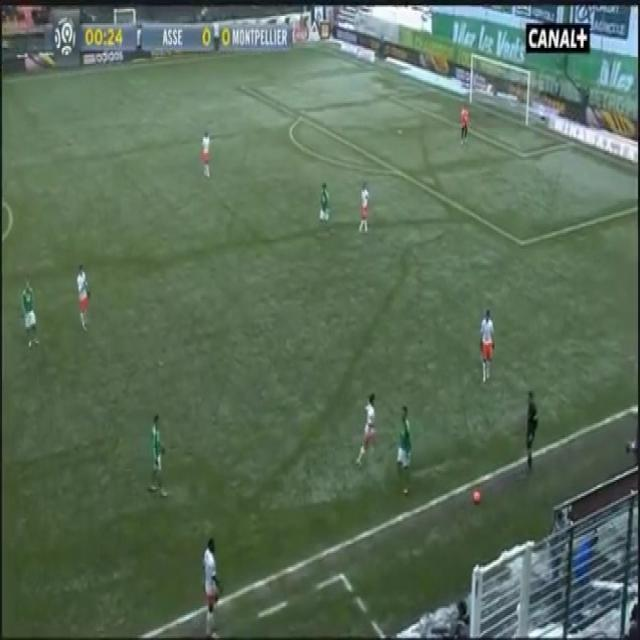ball: (468, 458, 489, 519)
goalkeeper: (456, 105, 483, 163)
player: (456, 283, 507, 402), (196, 529, 230, 639), (140, 397, 174, 507), (353, 387, 383, 482), (351, 174, 382, 253), (17, 280, 48, 356), (67, 262, 101, 329), (195, 123, 224, 196), (393, 402, 416, 493), (312, 174, 338, 243)
